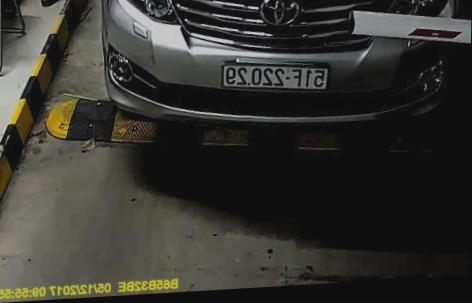License_Plate: (224, 56, 333, 93)
